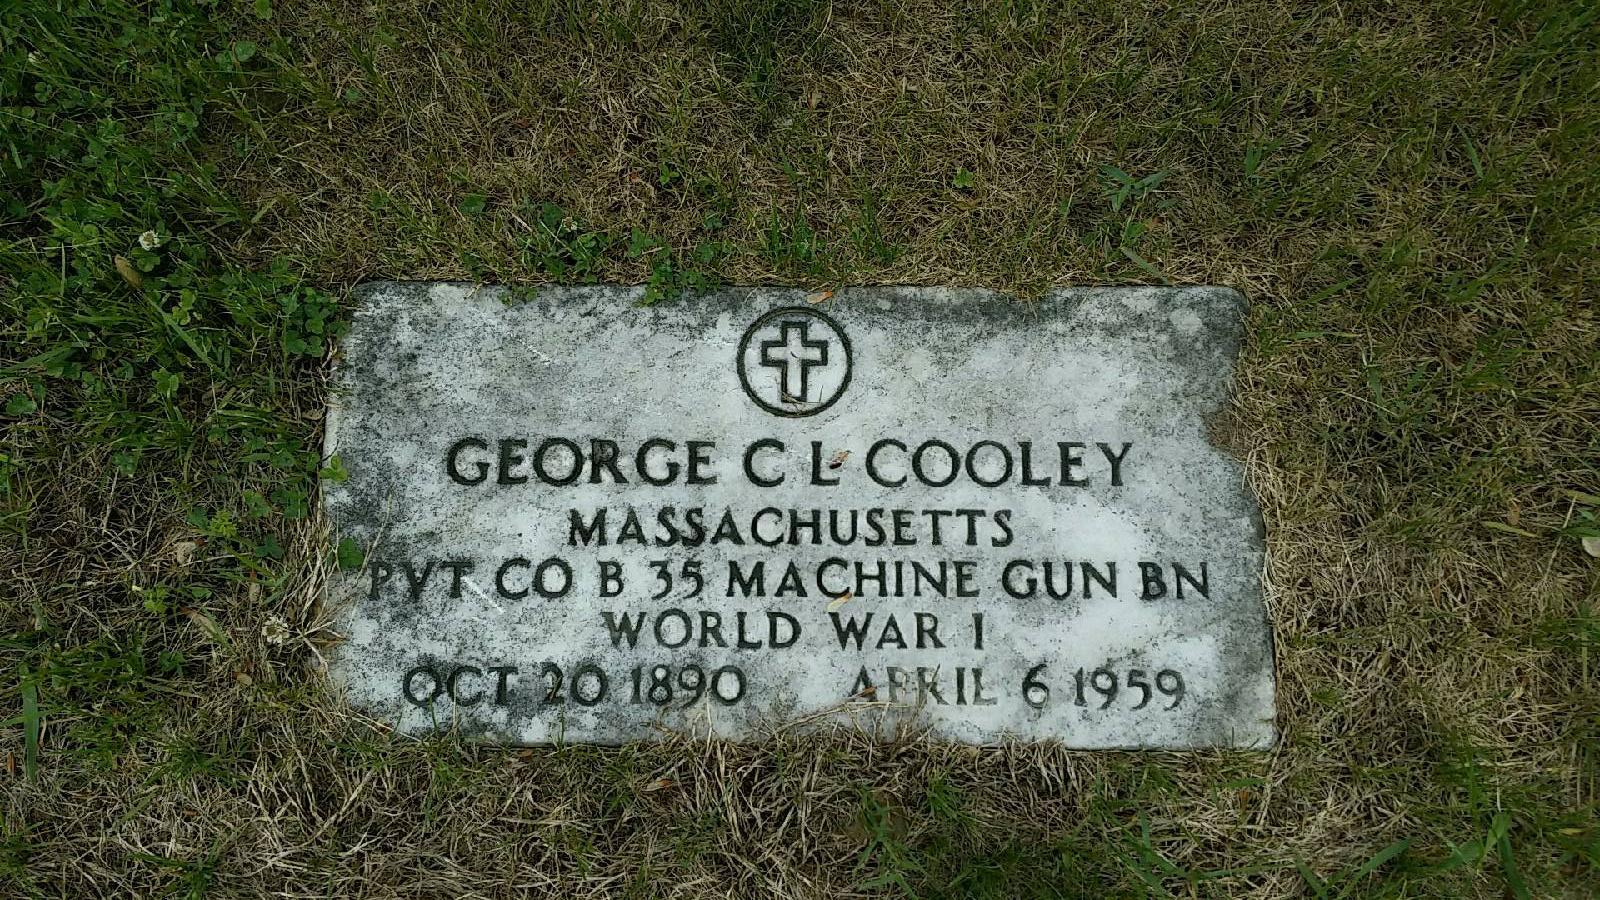flat: (313, 252, 1279, 758)
